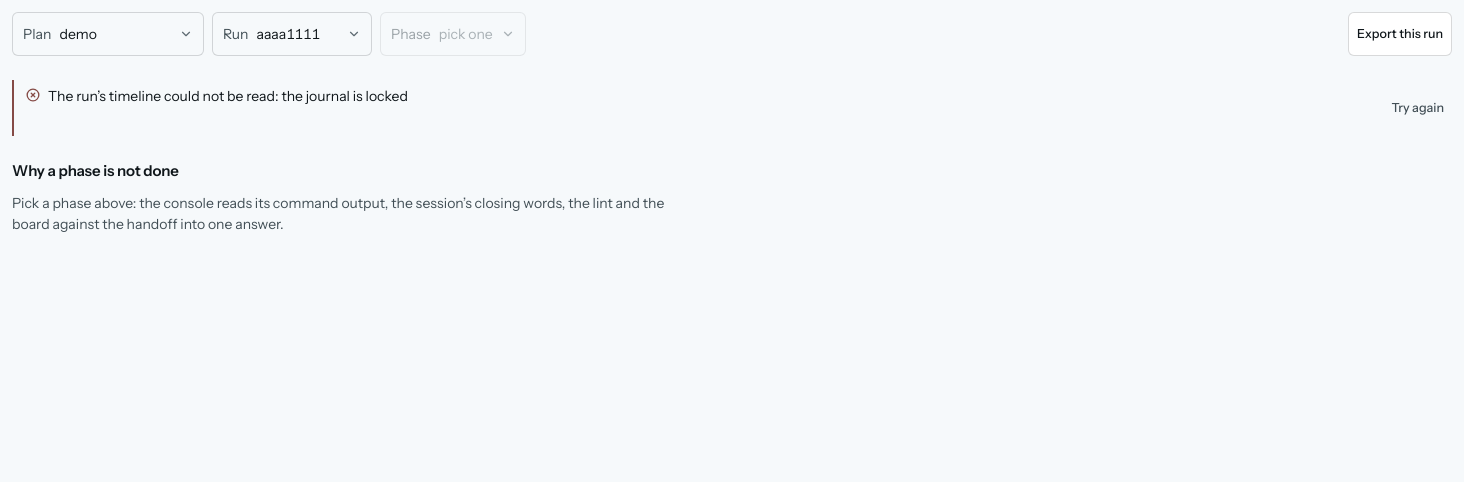
Scenario: the run, drawn as it happened › says the timeline could not be read, in its own words, with a way to ask again
This screenshot has width=1464, height=482.
Click the button "Try again" at (1418, 108), box [1383, 86, 1452, 130]
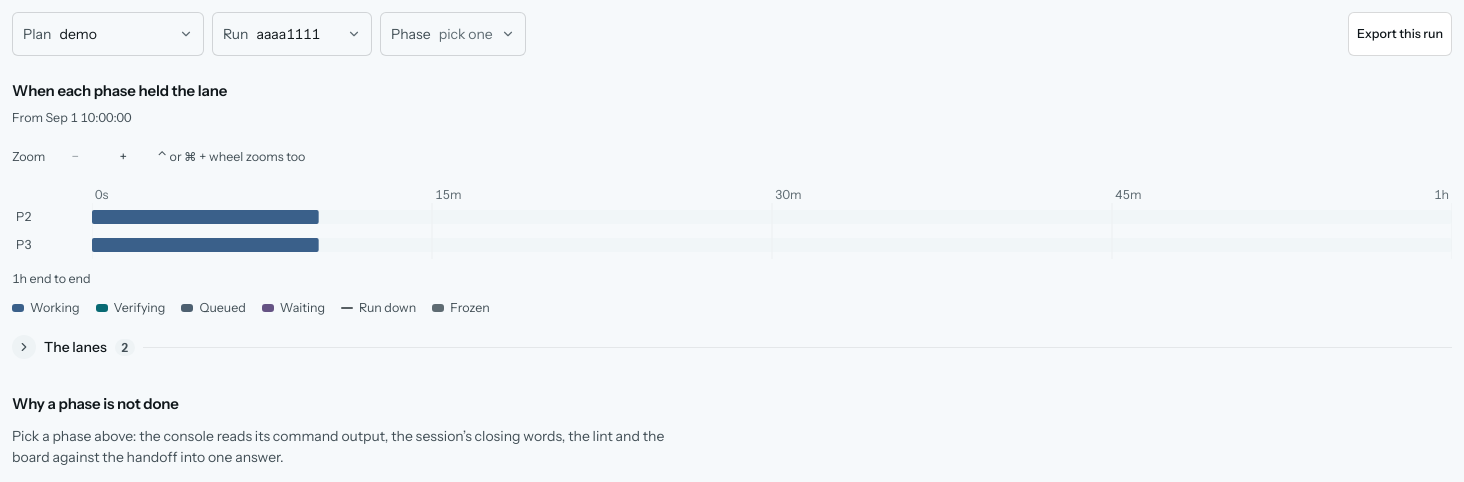
Result: the element with test id "run-gantt" is shown at [12, 80, 1452, 369]
